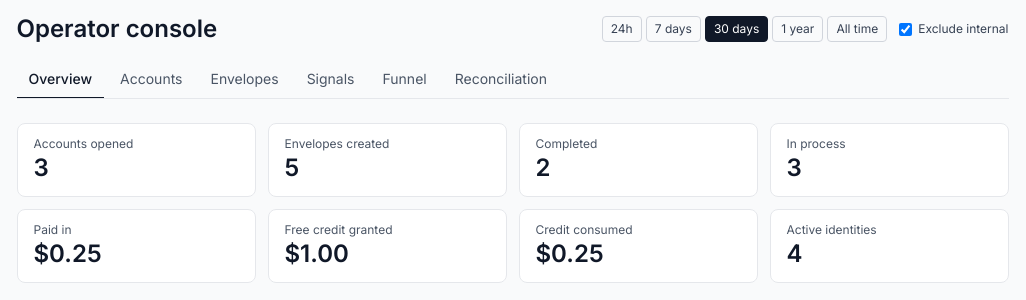
Test: AdminConsolePage (F-34, #148) › the Signals tab surfaces deliverability + agent-adoption (AC-187)
Check: the button with test id "admin-kpi-accountsOpened" is shown, box [16,123,256,197]
Click the button with test id "admin-tab-signals": click(331, 80) [295,61,366,99]
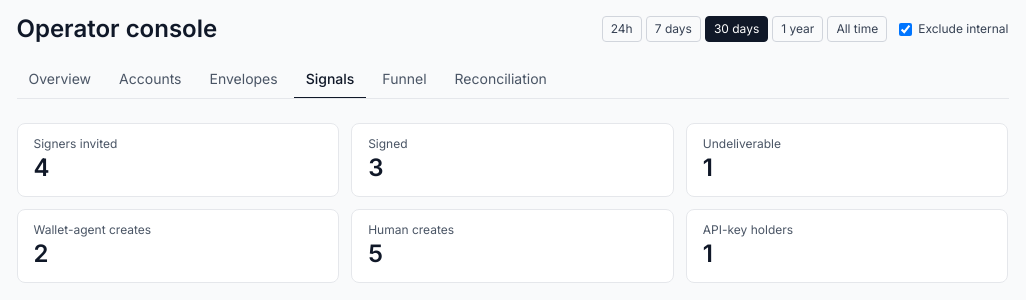
Check: the element with test id "admin-signals" is shown, box [16,123,1008,283]
Check: the button with test id "admin-kpi-delivUndeliverable" shows "1", box [686,123,1008,197]
Check: the button with test id "admin-kpi-walletCreates" shows "2", box [16,209,339,283]
